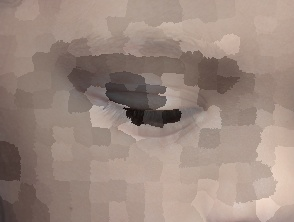vitiligo: (46, 44, 229, 171)
